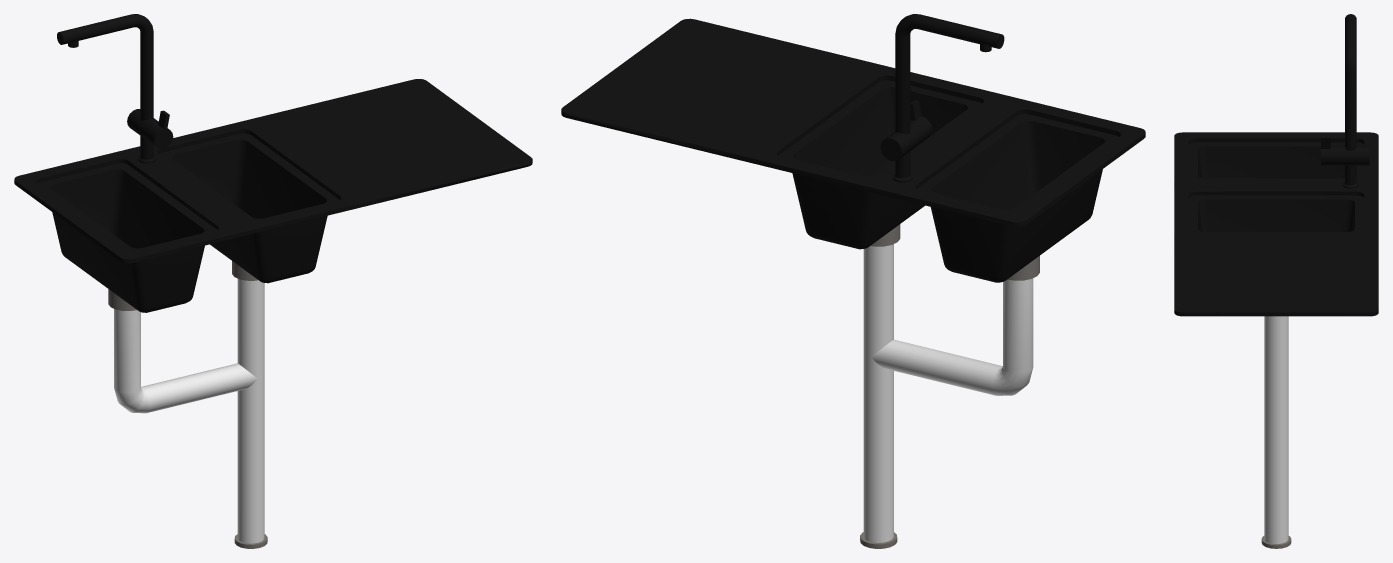
The model's file is Sink05.fbx.
The picture shows the model from 3 angles, left to right: view 1: azimuth 30°, elevation 25°; view 2: azimuth 150°, elevation 25°; view 3: azimuth 270°, elevation 25°; orthographic projection. The views are drawn at different scales.
Parts seen in each view (by area): view 1: Sink05, SinkFaucet05, SinkFaucet05Handle; view 2: Sink05, SinkFaucet05; view 3: Sink05, SinkFaucet05, SinkFaucet05Handle.
Boxes of the visible parts, left/top/right/bottom form: Sink05: left=14, top=79, right=532, bottom=548; SinkFaucet05: left=57, top=14, right=158, bottom=163; SinkFaucet05Handle: left=148, top=110, right=173, bottom=148; Sink05: left=561, top=18, right=1145, bottom=548; SinkFaucet05: left=880, top=14, right=1004, bottom=182; Sink05: left=1174, top=132, right=1378, bottom=548; SinkFaucet05: left=1332, top=14, right=1369, bottom=188; SinkFaucet05Handle: left=1321, top=135, right=1332, bottom=165.
Size of the model in its own units: 94.47 by 113 by 45.29.
